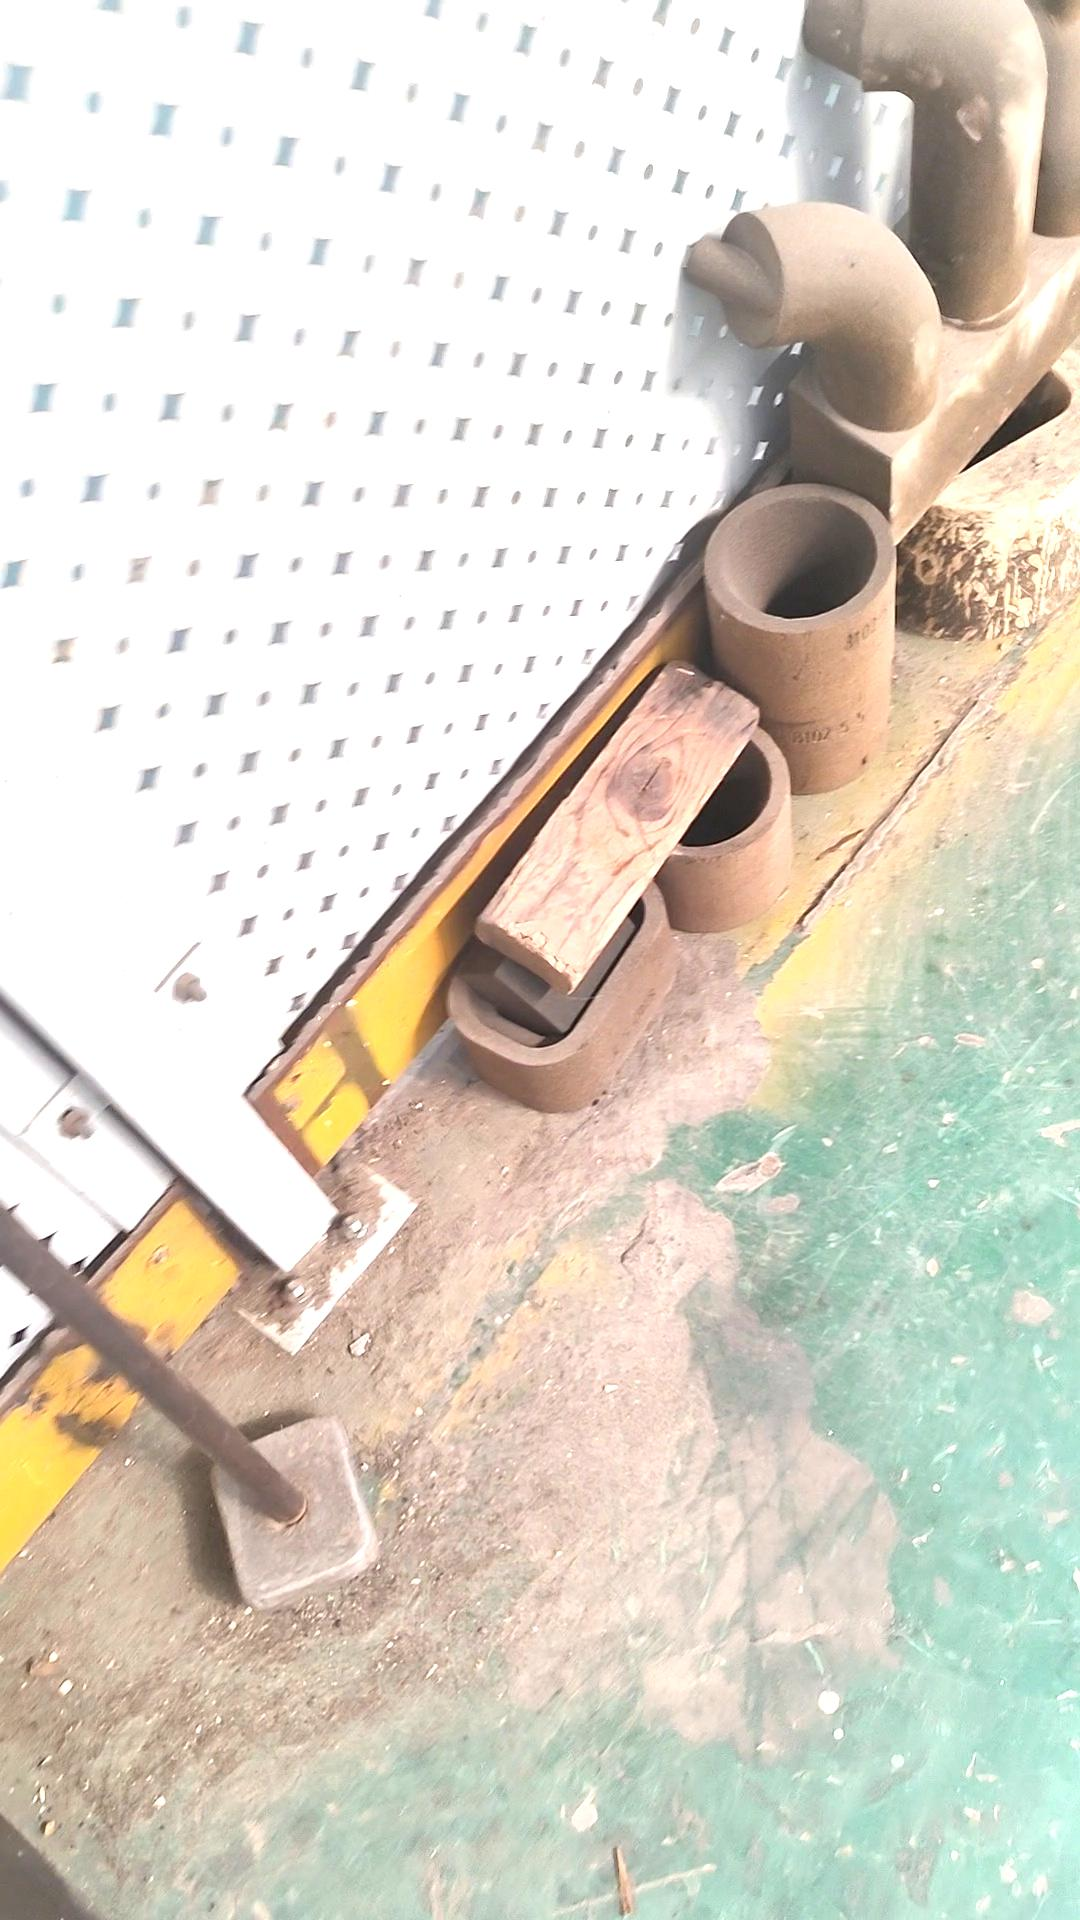pouring hole: (720, 493, 877, 618), (620, 727, 771, 847)
